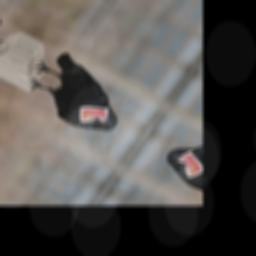Crow: (13, 44, 142, 143)
